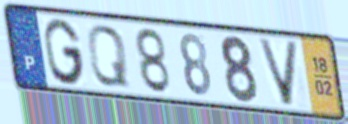8: (219, 33, 260, 105), (133, 26, 172, 95), (178, 32, 214, 98)
G: (42, 16, 88, 87)
Q: (85, 23, 132, 89)
V: (255, 36, 302, 108)
